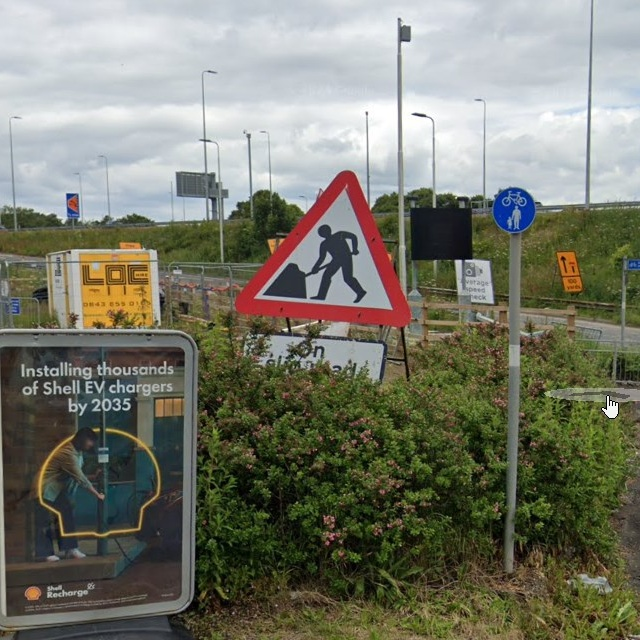Roadworks: (228, 167, 412, 327)
